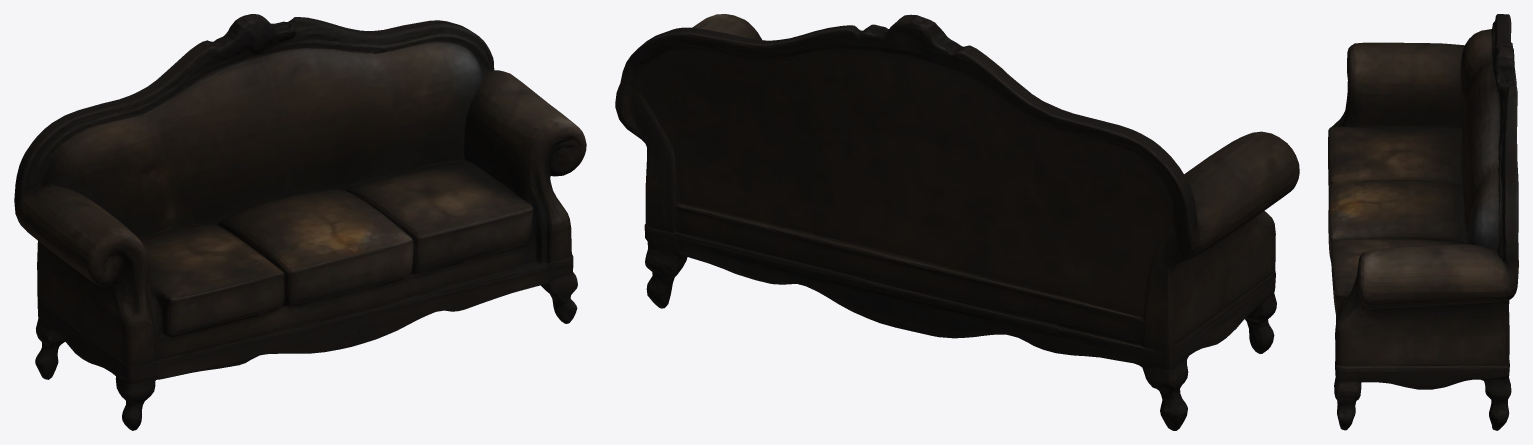
File: fancy_sofa.glb
3 renders of one model, left to right at view 1: azimuth 30°, elevation 25°; view 2: azimuth 150°, elevation 25°; view 3: azimuth 270°, elevation 25°, orthographic. The views are drawn at different scales.
Visible parts, largest first — view 1: geometry_0; view 2: geometry_0; view 3: geometry_0.
Boxes of the visible parts, x1,y1,x2,y2 form: geometry_0: [14, 14, 586, 430]; geometry_0: [615, 14, 1299, 430]; geometry_0: [1328, 14, 1518, 430].
Size of the model in its own units: 0.9994 by 0.5773 by 0.353.
Materials: 1 (1 with a texture image).
